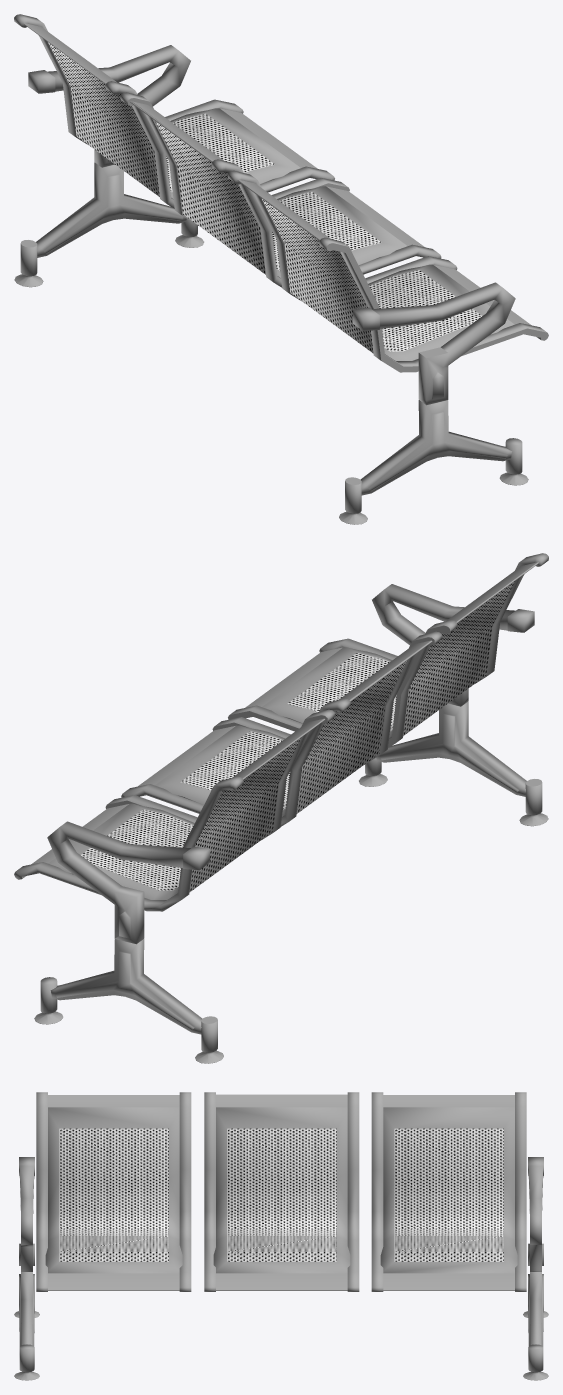
Rendered from metal_long_chair.dae.
3 views of the same model, one above another, from view 1: azimuth 30°, elevation 25°; view 2: azimuth 150°, elevation 25°; view 3: azimuth 270°, elevation 25° (orthographic). The views are drawn at different scales.
Parts seen in each view (by area): view 1: seat.001, support, seat; view 2: seat.001, support, seat; view 3: seat.001, seat, support.
Boxes of the visible parts, box(x1,y1,x2,y2) form: seat.001: box(25, 23, 531, 360); support: box(14, 45, 528, 524); seat: box(14, 14, 548, 372); seat.001: box(31, 562, 537, 899); support: box(34, 584, 548, 1063); seat: box(14, 553, 548, 911); seat.001: box(45, 1095, 517, 1289); seat: box(36, 1092, 526, 1291); support: box(14, 1157, 548, 1380).
Bounding box in the file's own units: 0.6865 × 1.82 × 0.8084.
